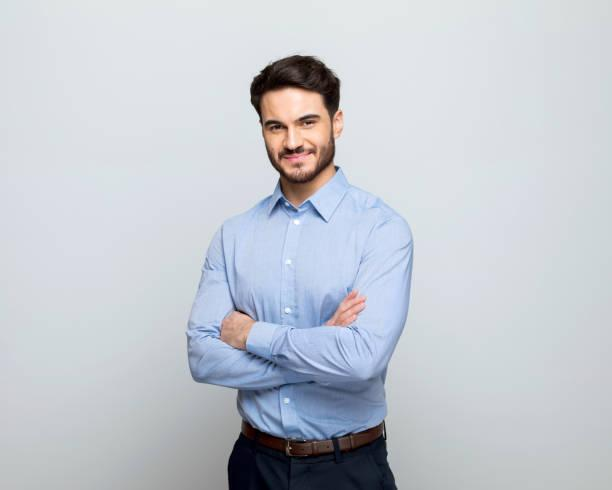no_goggle: (252, 116, 344, 134)
no_helmet: (239, 40, 356, 112)
no_vest: (179, 150, 429, 490)
